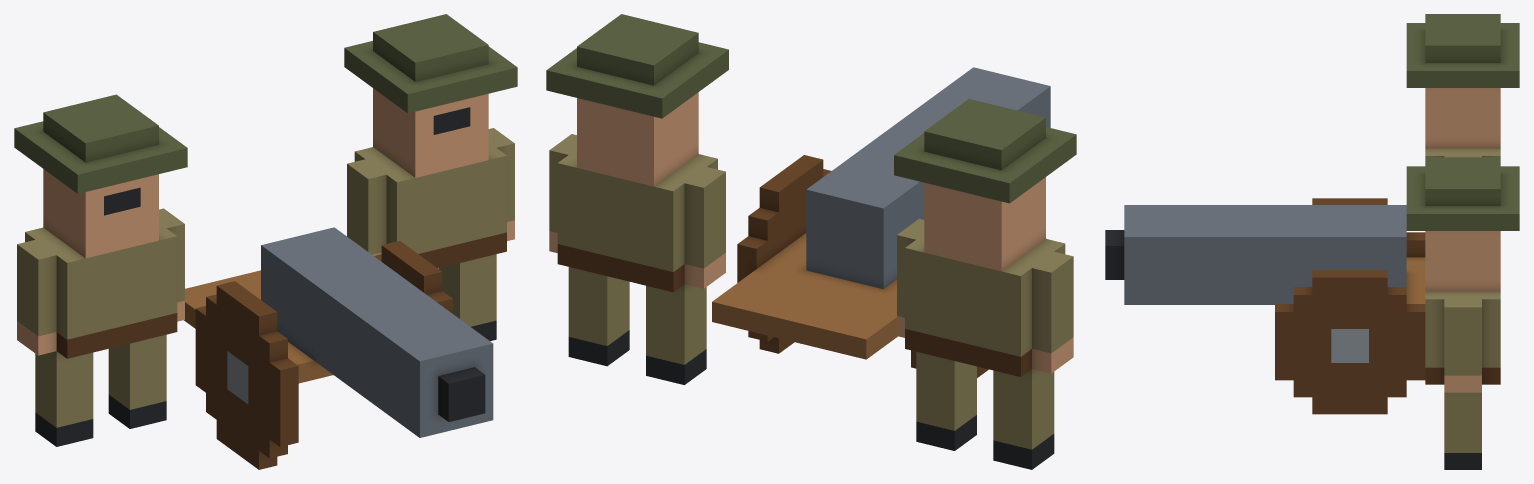
The model's file is u_gatling.glb.
3 views of the same model, side by side, from view 1: azimuth 30°, elevation 25°; view 2: azimuth 150°, elevation 25°; view 3: azimuth 270°, elevation 25° (orthographic). The views are drawn at different scales.
Visible parts, largest first — view 1: u_gatling_body; view 2: u_gatling_body; view 3: u_gatling_body.
Part boxes in pixels (bbox=[...]): u_gatling_body: bbox=[14, 14, 517, 469]; u_gatling_body: bbox=[546, 14, 1076, 469]; u_gatling_body: bbox=[1105, 14, 1519, 469].
Bounding box in the file's own units: 1.62 × 1 × 1.38.
1 material, 1 textured.
